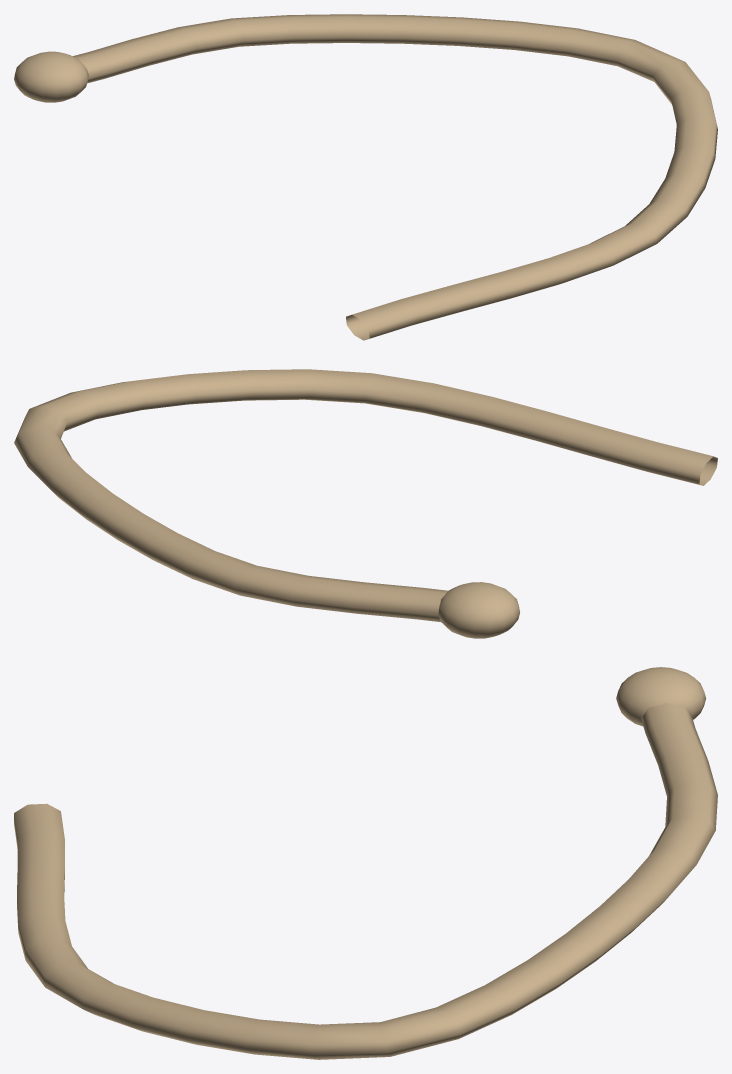
The model's file is left_rib_5.glb.
3 views of the same model, one above another, from view 1: azimuth 30°, elevation 25°; view 2: azimuth 150°, elevation 25°; view 3: azimuth 270°, elevation 25° (orthographic). The views are drawn at different scales.
Visible parts, largest first — view 1: left_rib_5:costal-body, left_rib_5:head; view 2: left_rib_5:costal-body, left_rib_5:head; view 3: left_rib_5:costal-body, left_rib_5:head.
Boxes of the visible parts, x1,y1,x2,y2 form: left_rib_5:costal-body: [73, 14, 717, 340]; left_rib_5:head: [14, 51, 88, 102]; left_rib_5:costal-body: [14, 369, 717, 621]; left_rib_5:head: [438, 582, 519, 638]; left_rib_5:costal-body: [14, 703, 717, 1059]; left_rib_5:head: [616, 667, 706, 726].
Bounding box in the file's own units: 0.6472 × 0.117 × 0.585.
